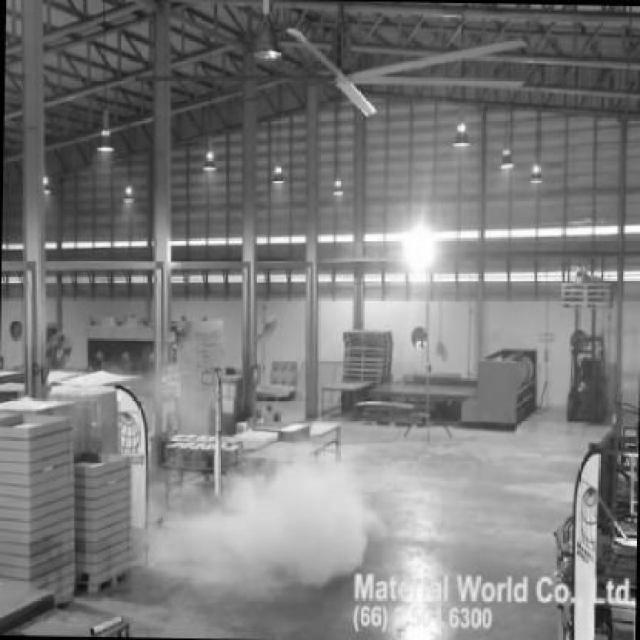fire: (160, 452, 377, 594)
